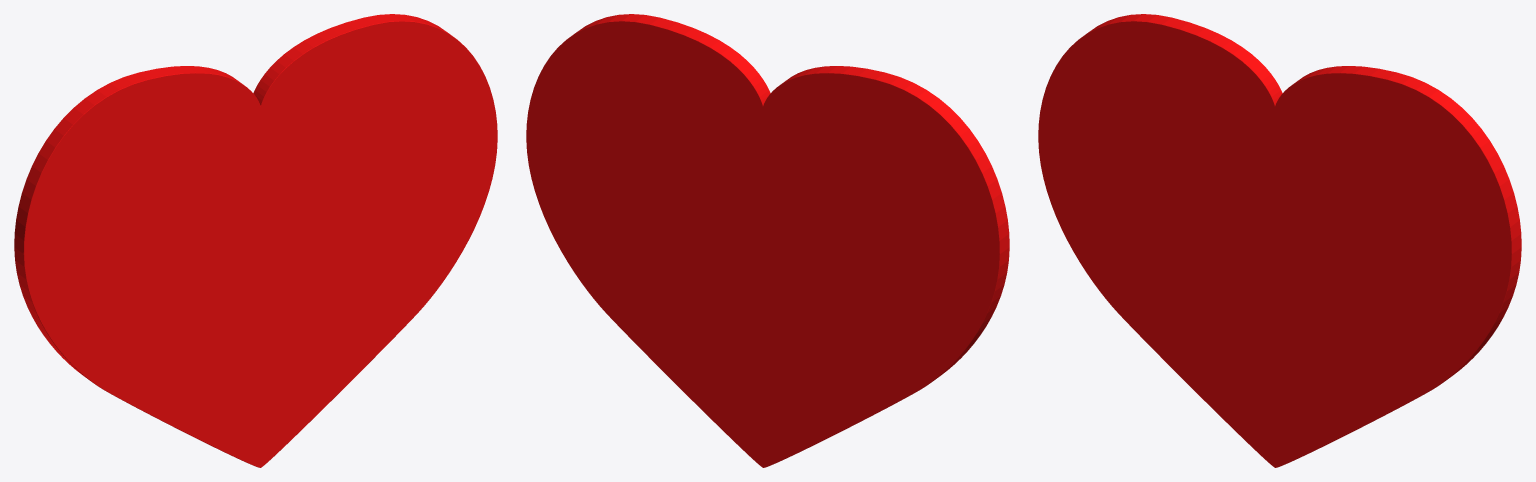
The model's file is heart.fbx.
The picture shows the model from 3 angles, left to right: view 1: azimuth 30°, elevation 25°; view 2: azimuth 150°, elevation 25°; view 3: azimuth 330°, elevation 25°; orthographic projection.
Parts seen in each view (by area): view 1: BezierCurve; view 2: BezierCurve; view 3: BezierCurve.
Boxes of the visible parts, x1=… form: BezierCurve: x1=14, y1=14, x2=497, y2=467; BezierCurve: x1=526, y1=14, x2=1009, y2=467; BezierCurve: x1=1038, y1=14, x2=1521, y2=467.
Size of the model in its own units: 280 by 235 by 10.
